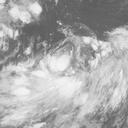cyclone: (53, 53, 72, 74)
